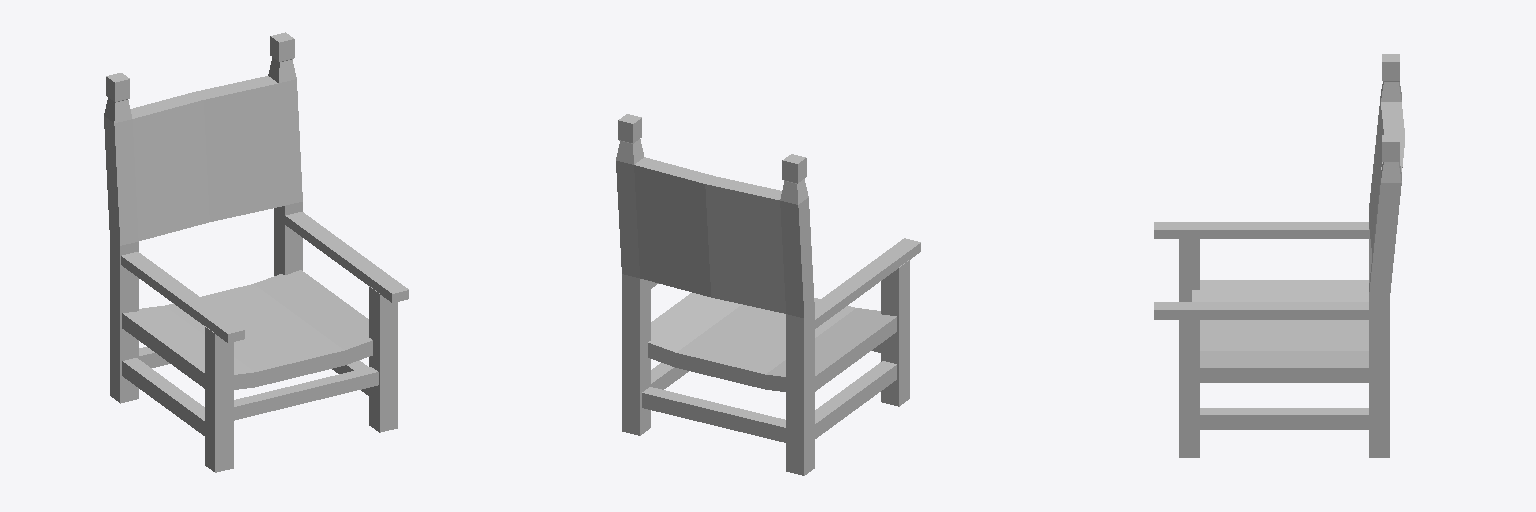
File: chair.obj
3 views of the same model, side by side, from view 1: azimuth 30°, elevation 25°; view 2: azimuth 150°, elevation 25°; view 3: azimuth 270°, elevation 25° (orthographic).
Parts seen in each view (by area): view 1: Cube001; view 2: Cube001; view 3: Cube001.
Boxes of the visible parts, x1,y1,x2,y2 form: Cube001: [104, 32, 408, 472]; Cube001: [616, 114, 920, 475]; Cube001: [1154, 54, 1404, 457].
Size of the model in its own units: 2 by 3.3 by 2.38.